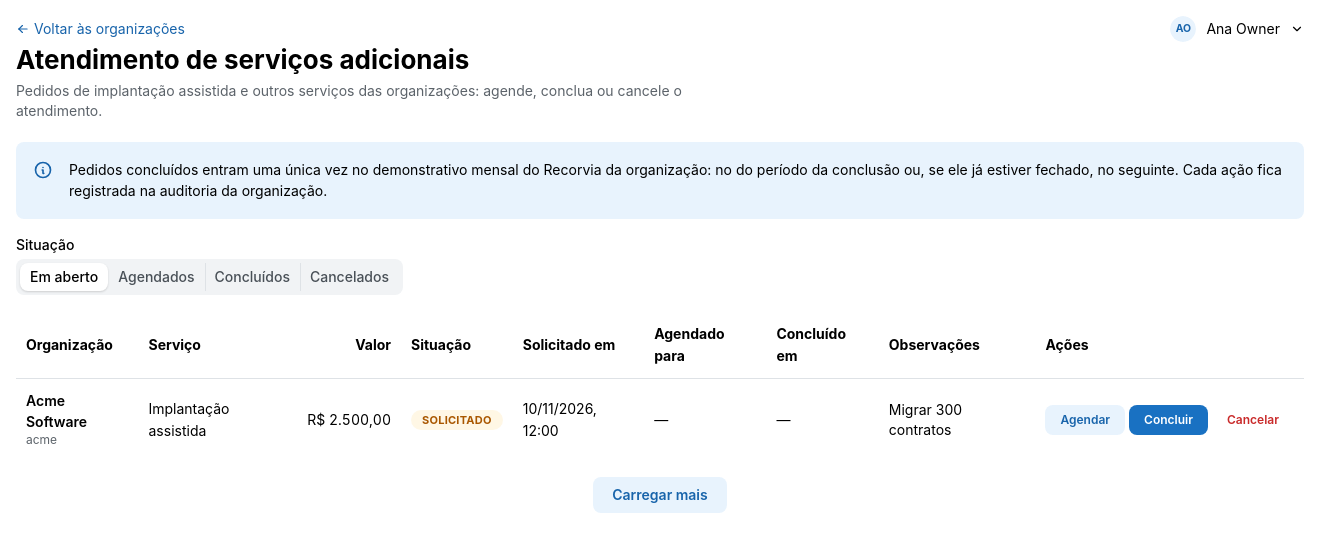
Scenario: atendimento de serviços adicionais › carrega as páginas seguintes pelo cursor
The image size is (1321, 546).
Expected: the number of rows is 2, x1=16 y1=311 x2=1304 y2=379; x1=16 y1=379 x2=1304 y2=461
Click the button "Carregar mais".
click(660, 495)  # box x1=593 y1=477 x2=727 y2=513
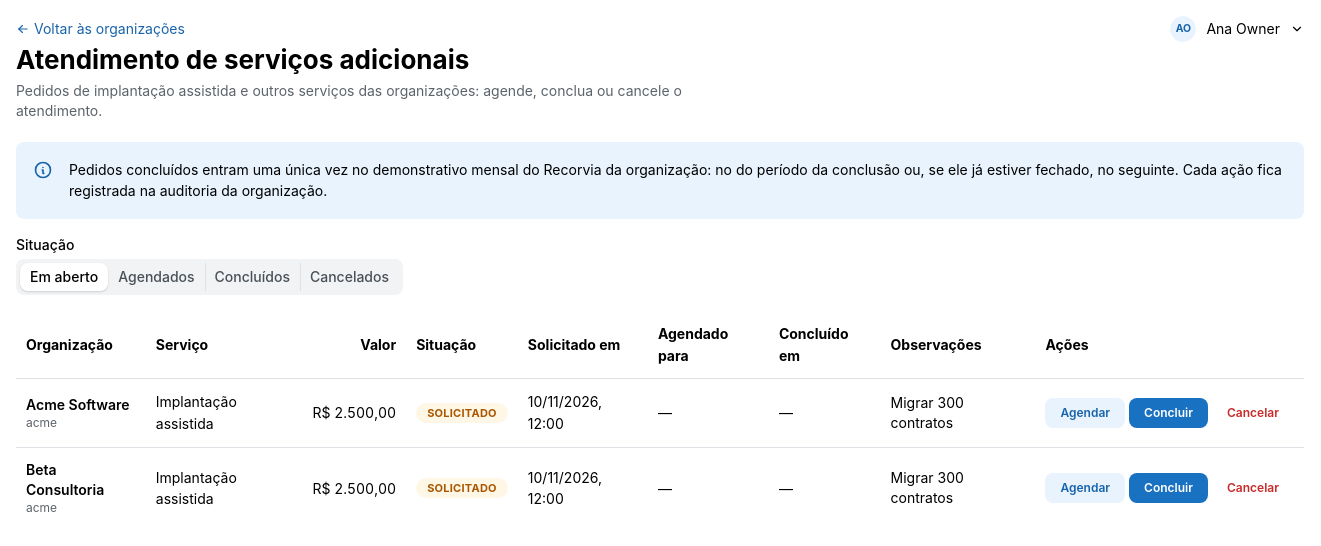
Expected: the number of rows is 3, x1=16 y1=311 x2=1304 y2=379; x1=16 y1=379 x2=1304 y2=447; x1=16 y1=447 x2=1304 y2=529
Expected: the row that starts with "Beta Consultoria" is shown, x1=26 y1=461 x2=104 y2=498
Expected: the button "Carregar mais" is gone
